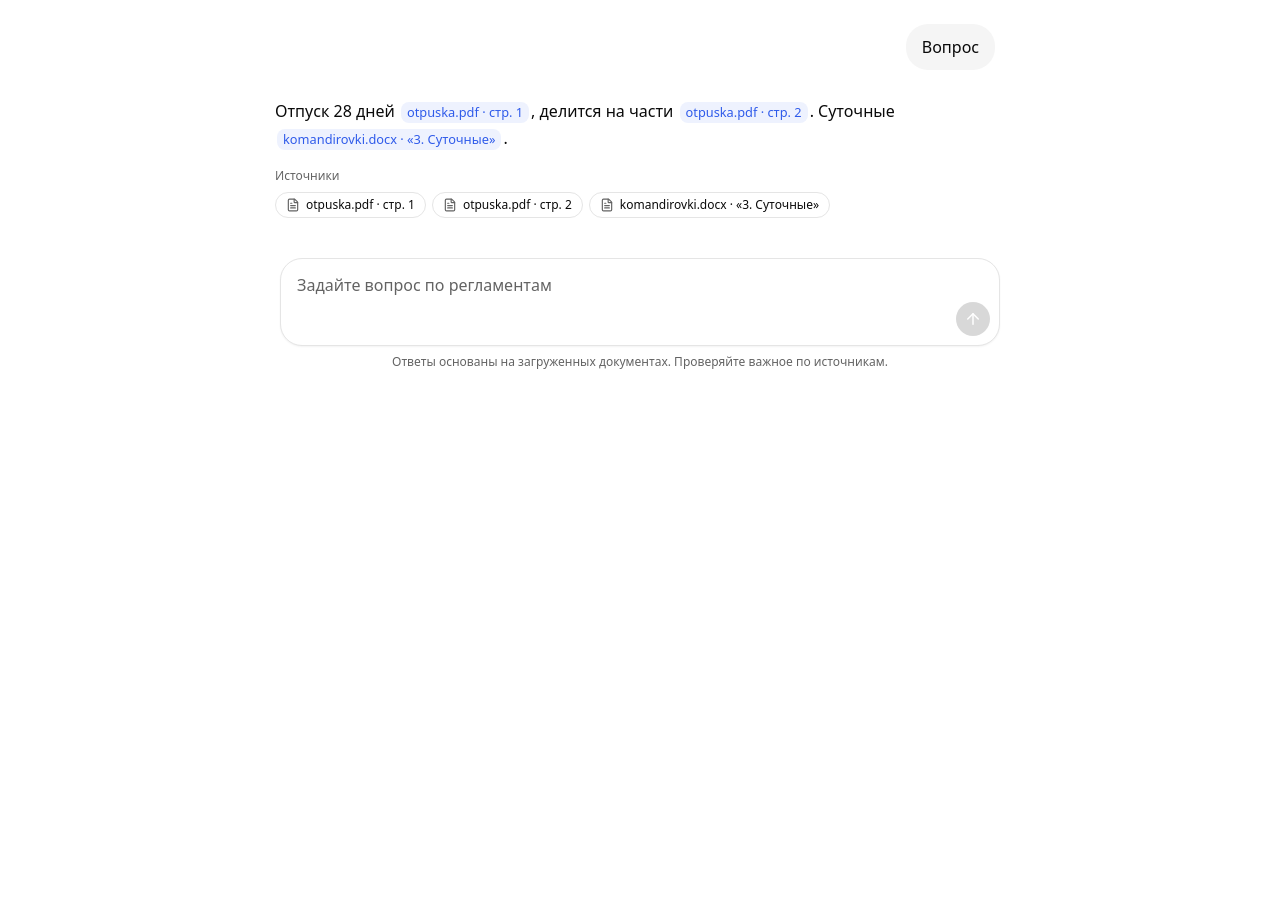
Opening the viewer from a citation › opens at the top without an error when the cited part is missing
Click the button "otpuska.pdf · стр. 2" next to ", делится на части" at point(744, 113), box x1=680 y1=102 x2=808 y2=123
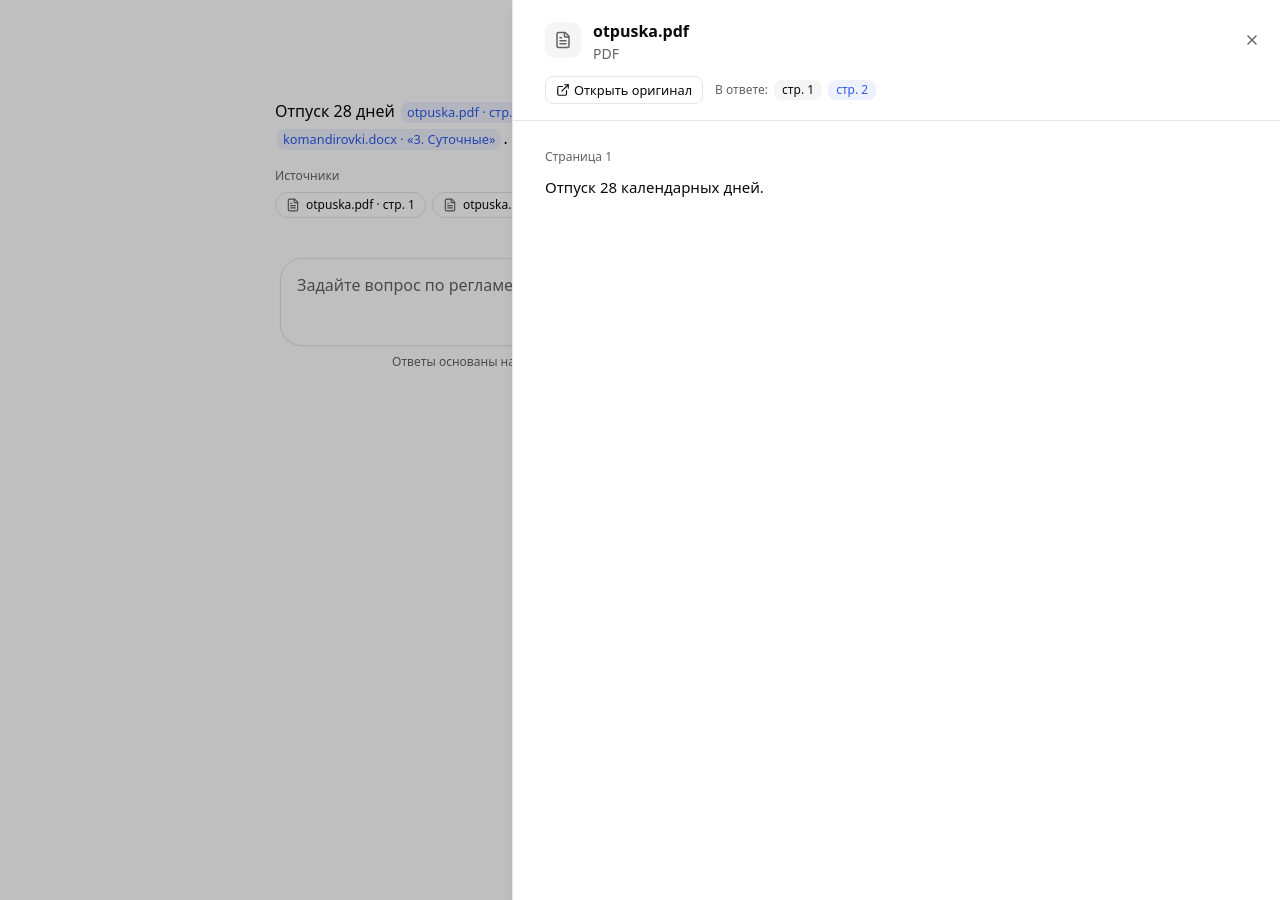
expect the text "Отпуск 28 календарных дней." is shown: met, box x1=545 y1=177 x2=764 y2=197
